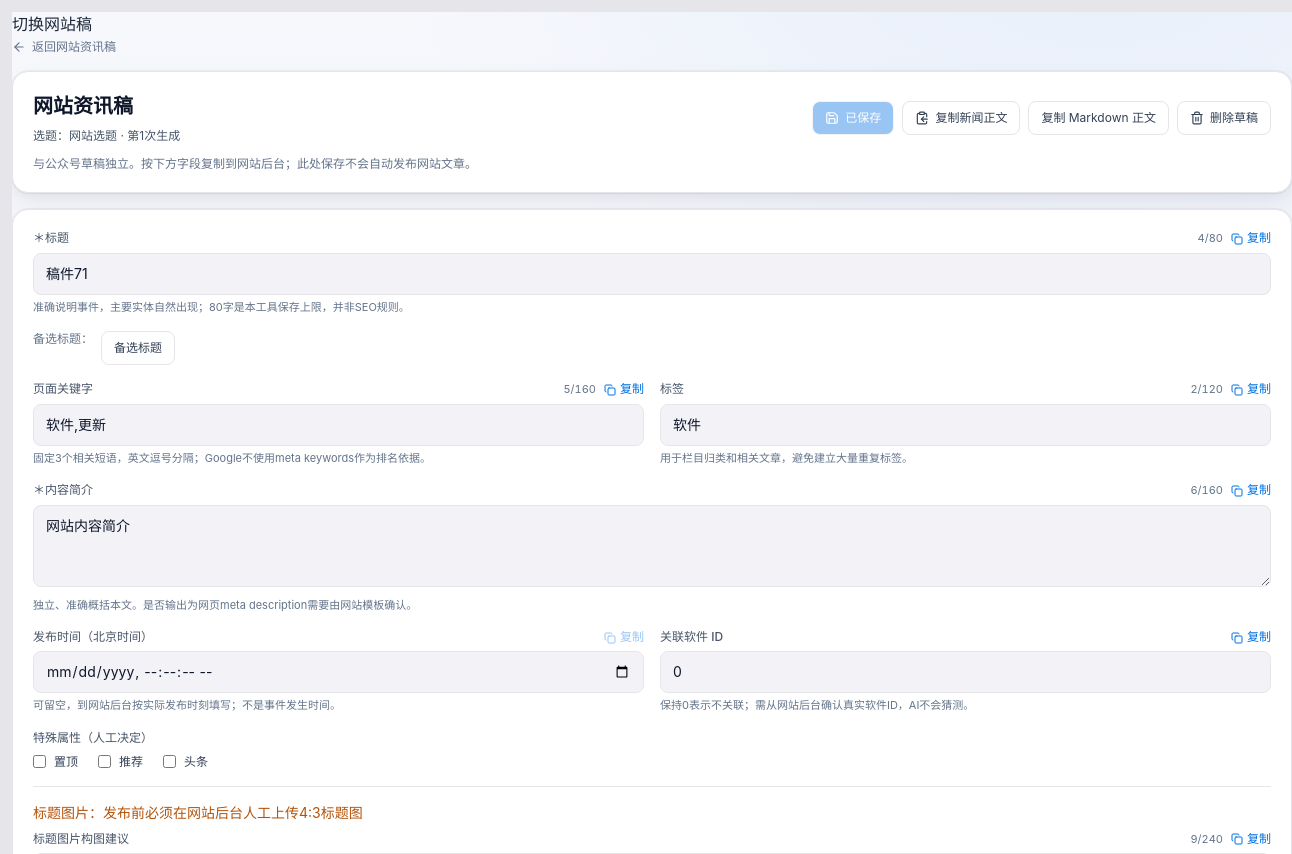
website CMS fields › does not show a late delete failure on another draft
Click the button "删除草稿" at x=1224, y=118, box [1177, 101, 1271, 135]
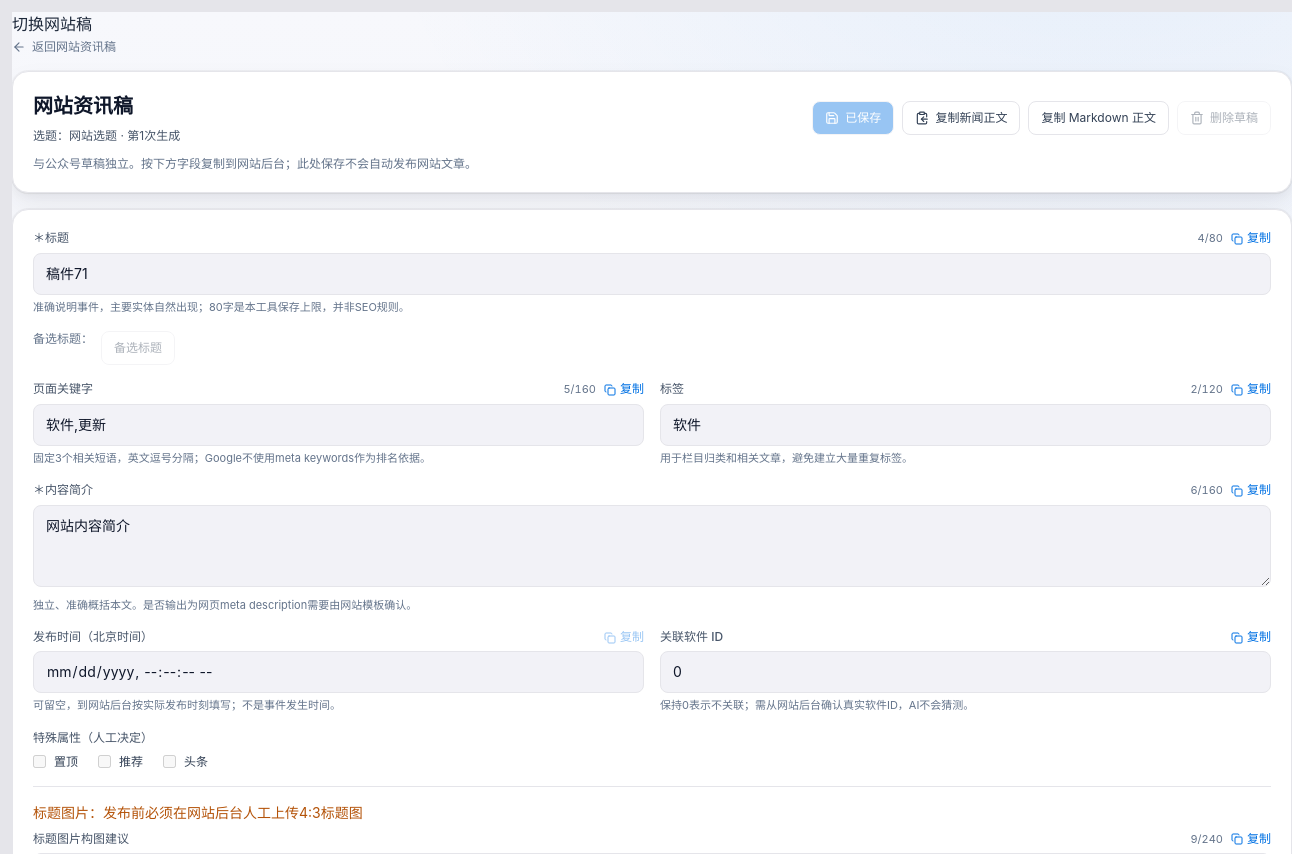
Click the link "切换网站稿" at x=52, y=24, box [12, 14, 92, 34]
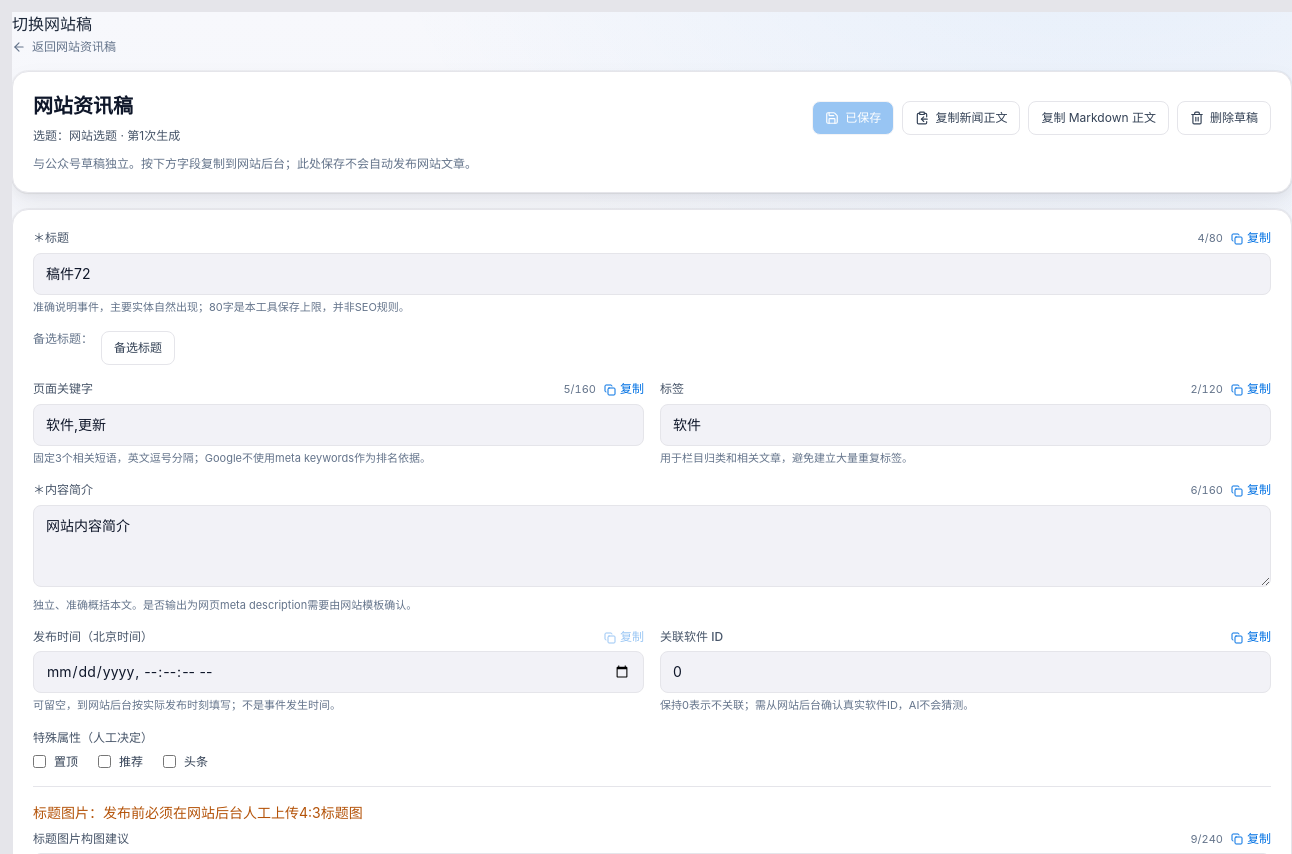
Expected: the field showing "稿件72" is shown, [33, 252, 1271, 294]
